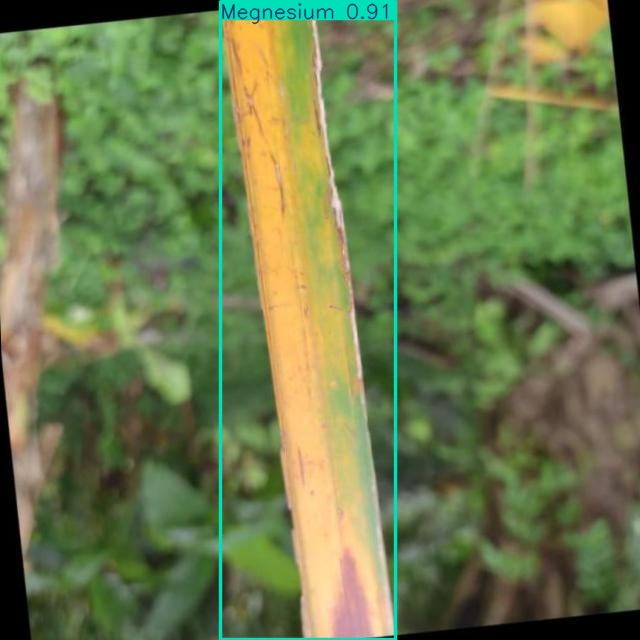Megnesium: (220, 2, 396, 640)
